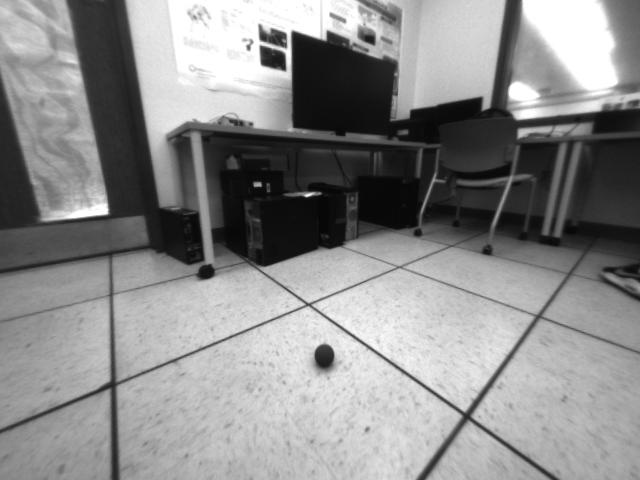dogtoy: (308, 336, 343, 372)
